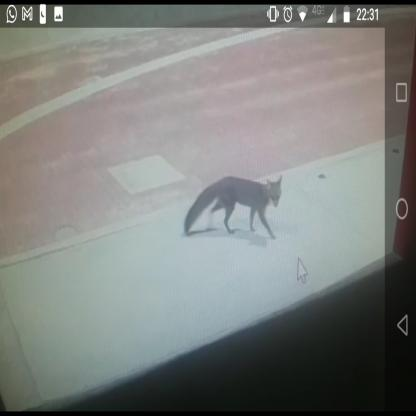zorro: (179, 165, 290, 252)
